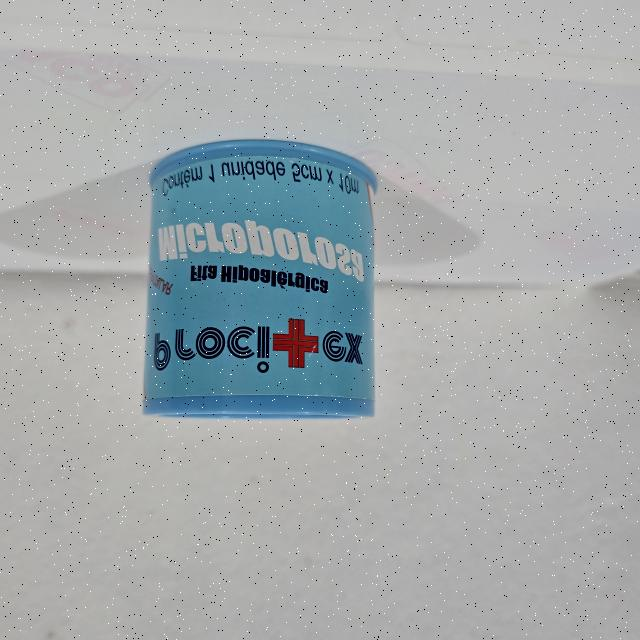procitex: (136, 136, 381, 423)
